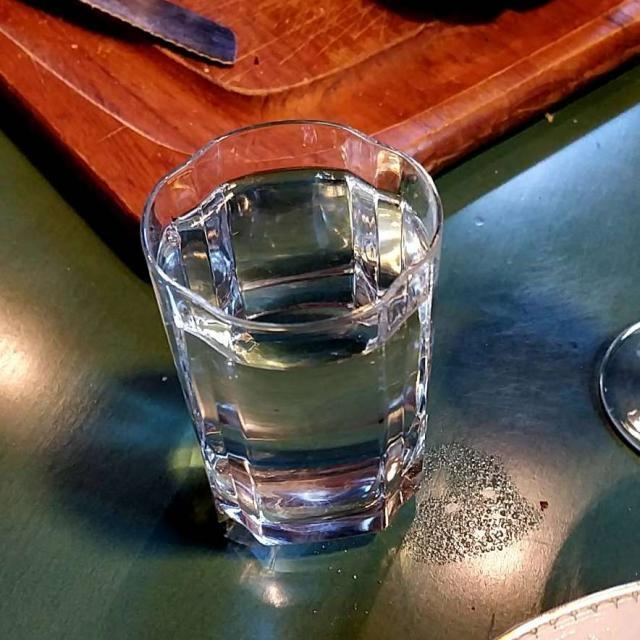water: (171, 197, 431, 511)
